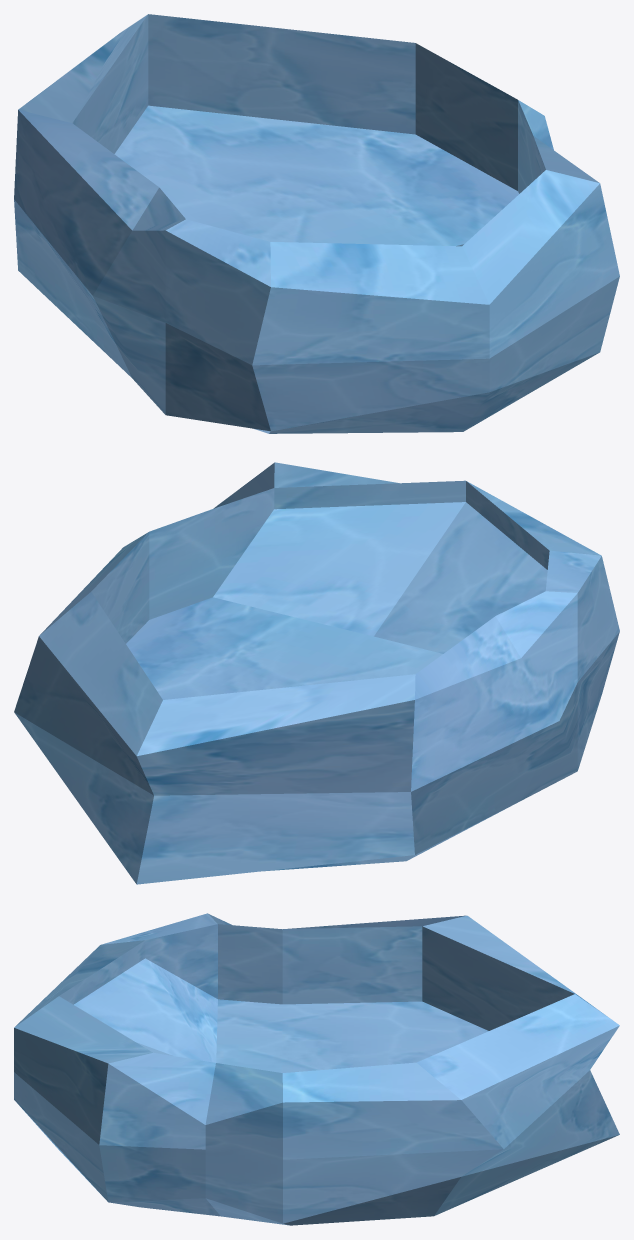
3 views of the same model, one above another, from view 1: azimuth 30°, elevation 25°; view 2: azimuth 150°, elevation 25°; view 3: azimuth 270°, elevation 25° (orthographic). The views are drawn at different scales.
Parts seen in each view (by area): view 1: Cube.002; view 2: Cube.002; view 3: Cube.002.
Boxes of the visible parts, box(x1,y1,x2,y2) form: Cube.002: box(14, 14, 619, 433); Cube.002: box(14, 462, 619, 884); Cube.002: box(14, 913, 619, 1225).
Bounding box in the file's own units: 587 × 232 × 829.
1 material, 1 textured.
